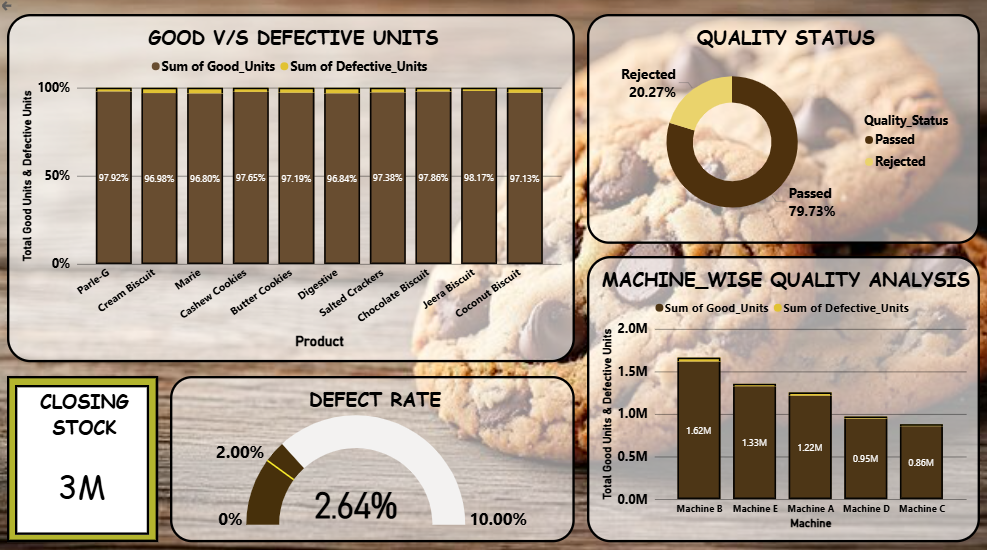

Layout of this report page (visuals, bound fields, positions):
{"tool":"powerbi","page":{"name":"Quality & Inventory","canvas":[1280,720],"ordinal":4},"visuals":[{"type":"gauge","title":"DEFECT RATE","fields":{"MinValue":["Biscuit_Manufacturing_1000_Records.min_defect_rate"],"MaxValue":["Biscuit_Manufacturing_1000_Records.max defect rate"],"TargetValue":["Biscuit_Manufacturing_1000_Records.target defect rate"],"Y":["Biscuit_Manufacturing_1000_Records.defect rate"]},"box":[226.9,485.7,516.3,211.6],"z":0},{"type":"hundredPercentStackedColumnChart","title":"GOOD V/S DEFECTIVE UNITS","fields":{"Category":["Biscuit_Manufacturing_1000_Records.Product"],"Y":["Sum(Biscuit_Manufacturing_1000_Records.Good_Units)","Sum(Biscuit_Manufacturing_1000_Records.Defective_Units)"]},"box":[19.1,24.2,724.1,443.7],"z":1000},{"type":"donutChart","title":"QUALITY STATUS","fields":{"Category":["Biscuit_Manufacturing_1000_Records.Quality_Status"],"Y":["CountNonNull(Biscuit_Manufacturing_1000_Records.Record_ID)"]},"box":[758.6,24.2,501,293.2],"z":2000},{"type":"columnChart","title":"MACHINE_WISE QUALITY ANALYSIS","fields":{"Category":["Biscuit_Manufacturing_1000_Records.Machine"],"Y":["Sum(Biscuit_Manufacturing_1000_Records.Good_Units)","Sum(Biscuit_Manufacturing_1000_Records.Defective_Units)"]},"box":[758.6,332.7,501,364.6],"z":3000},{"type":"actionButton","box":[8.9,3.8,40.8,20.4],"z":4000},{"type":"shape","box":[19.1,485.7,192.5,211.6],"z":5000},{"type":"card","title":"CLOSING STOCK","fields":{"Values":["Sum(Biscuit_Manufacturing_1000_Records.Closing_Stock)"]},"box":[29.3,497.2,170.8,191.2],"z":6000}]}

Visuals, with their boxes in screenshot pixels (x1, y1, x2, y2), scaled from the page's 1280x720 canvas onto the 987x550 screenshot:
"DEFECT RATE" gauge: {"left": 175, "top": 371, "right": 573, "bottom": 533}
"GOOD V/S DEFECTIVE UNITS" hundredPercentStackedColumnChart: {"left": 15, "top": 18, "right": 573, "bottom": 357}
"QUALITY STATUS" donutChart: {"left": 585, "top": 18, "right": 971, "bottom": 242}
"MACHINE_WISE QUALITY ANALYSIS" columnChart: {"left": 585, "top": 254, "right": 971, "bottom": 533}
actionButton: {"left": 7, "top": 3, "right": 38, "bottom": 18}
shape: {"left": 15, "top": 371, "right": 163, "bottom": 533}
"CLOSING STOCK" card: {"left": 23, "top": 380, "right": 154, "bottom": 526}
